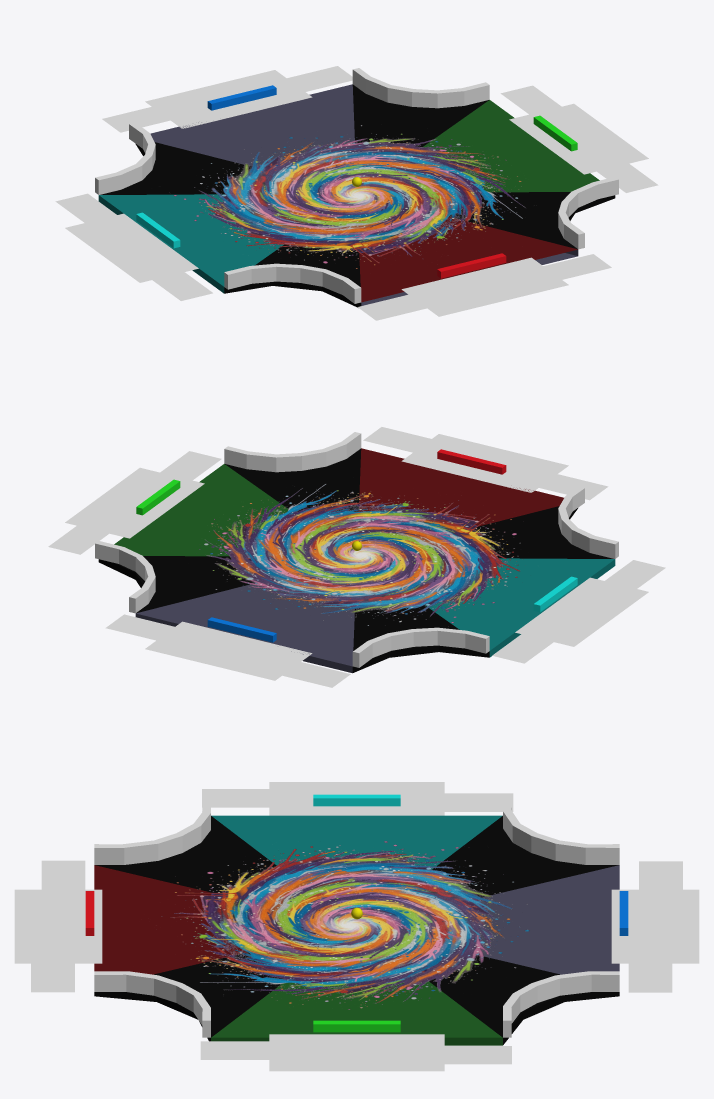
The model's file is pong4p.glb.
The picture shows the model from 3 angles, top to bottom: view 1: azimuth 30°, elevation 25°; view 2: azimuth 150°, elevation 25°; view 3: azimuth 270°, elevation 25°; orthographic projection. The views are drawn at different scales.
Parts seen in each view (by area): view 1: court, court-galaxy-alpha, alias1, alias3, alias4, alias2, wall.003, wall, wall.001, wall.002, score4.2, score1.1 (+10 smaller); view 2: court, court-galaxy-alpha, alias2, alias3, alias1, alias4, wall.001, wall.002, wall.003, wall, score2.2, score1.2 (+10 smaller); view 3: court, court-galaxy-alpha, alias3, alias2, alias1, alias4, wall, wall.002, wall.003, wall.001, score1.1, score3.1 (+8 smaller).
Boxes of the visible parts, <box> form: court: <box>98,84,615,307</box>; court-galaxy-alpha: <box>169,125,525,268</box>; alias1: <box>401,257,568,316</box>; alias3: <box>509,103,648,174</box>; alias4: <box>65,213,198,282</box>; alias2: <box>145,70,312,128</box>; wall.003: <box>352,68,489,108</box>; wall: <box>224,263,361,303</box>; wall.001: <box>558,177,618,249</box>; wall.002: <box>95,122,155,194</box>; score4.2: <box>144,266,212,300</box>; score1.1: <box>358,292,440,320</box>; court: <box>98,448,615,673</box>; court-galaxy-alpha: <box>196,484,523,626</box>; alias2: <box>145,621,312,680</box>; alias3: <box>65,467,204,538</box>; alias1: <box>401,434,568,492</box>; alias4: <box>515,577,648,646</box>; wall.001: <box>224,432,361,472</box>; wall.002: <box>352,627,489,667</box>; wall.003: <box>95,541,155,613</box>; wall: <box>558,486,618,558</box>; score2.2: <box>267,658,350,687</box>; score1.2: <box>363,427,446,456</box>; court: <box>94,815,619,1045</box>; court-galaxy-alpha: <box>161,841,529,1009</box>; alias3: <box>269,1034,444,1071</box>; alias2: <box>611,889,699,963</box>; alias1: <box>14,889,102,963</box>; alias4: <box>269,782,444,815</box>; wall: <box>94,798,210,864</box>; wall.002: <box>503,798,619,864</box>; wall.003: <box>503,971,619,1037</box>; wall.001: <box>94,971,210,1037</box>; score1.1: <box>41,860,85,897</box>; score3.1: <box>200,1041,288,1059</box>.
Bounding box in the file's own units: 23.5 × 2 × 23.5.
Materials: 13 (1 with a texture image).
